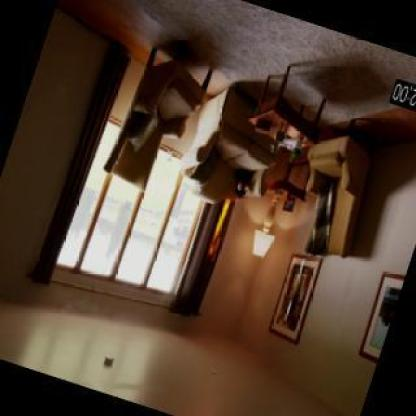Fire: (203, 197, 235, 263)
